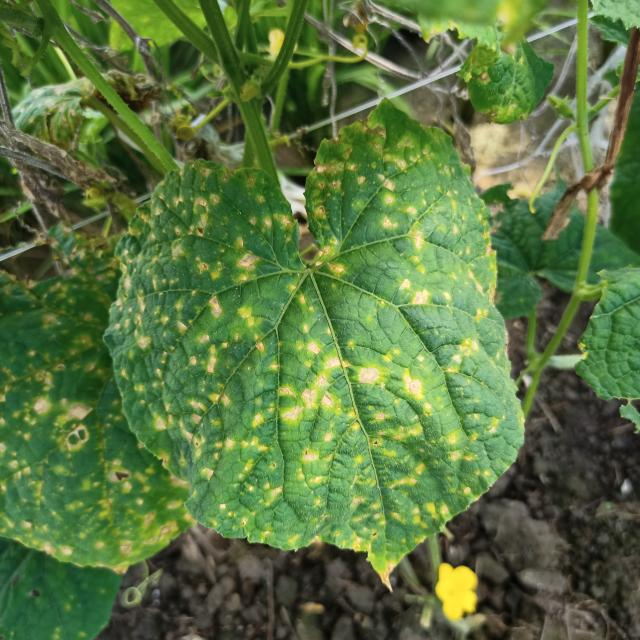disease_cucumber: (108, 119, 525, 554), (0, 275, 184, 564)
